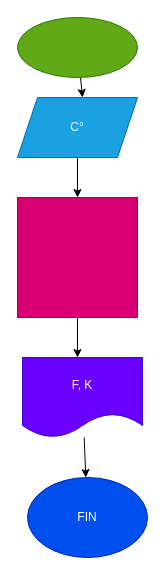
The diagram is 165 pixels wide and 575 high, and some of its shapes have lost their labels. The centre of each missing label's shape, as x and y in pixels:
"F=°C*9/5+32 k=°C+273.15" belongs at (x=77, y=257).
"inicio" belongs at (x=77, y=47).
